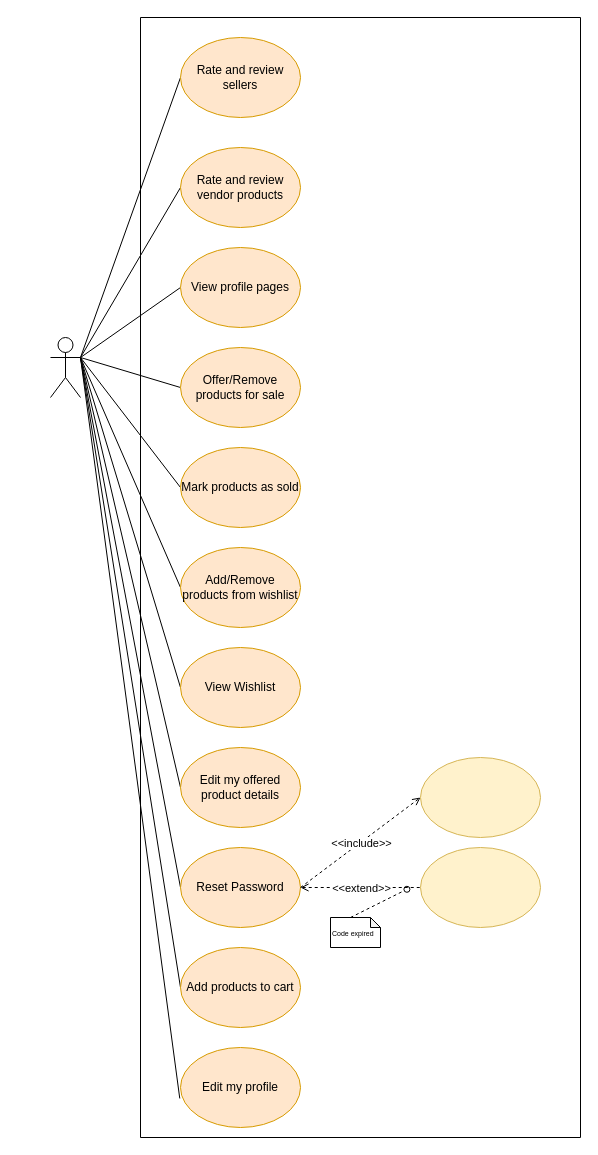
The diagram is 598 pixels wide and 1155 high, and some of its shapes have lost their labels. Here are the shapes that lost their labels. From the top down, the centre of each, then its label:
At pixel 65 367: "Existing Customer".
At pixel 480 797: "Validation check".
At pixel 480 887: "Invalid reset".
